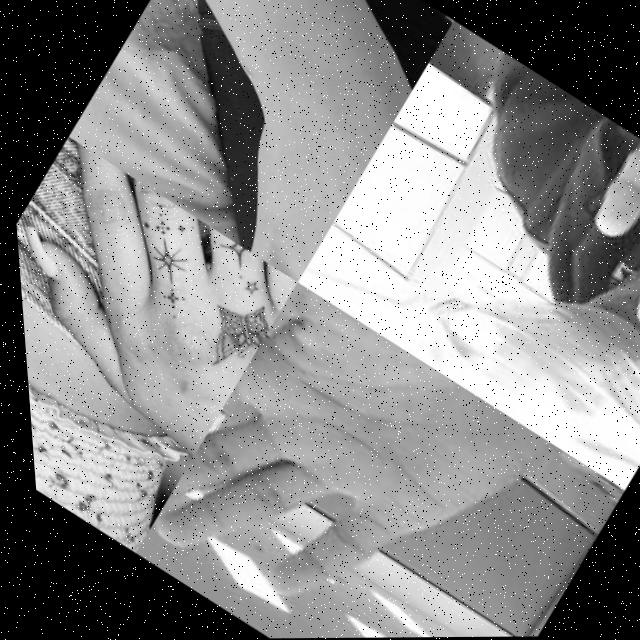hand: (122, 280, 568, 639), (8, 134, 303, 463), (106, 0, 419, 282), (522, 131, 640, 385)
